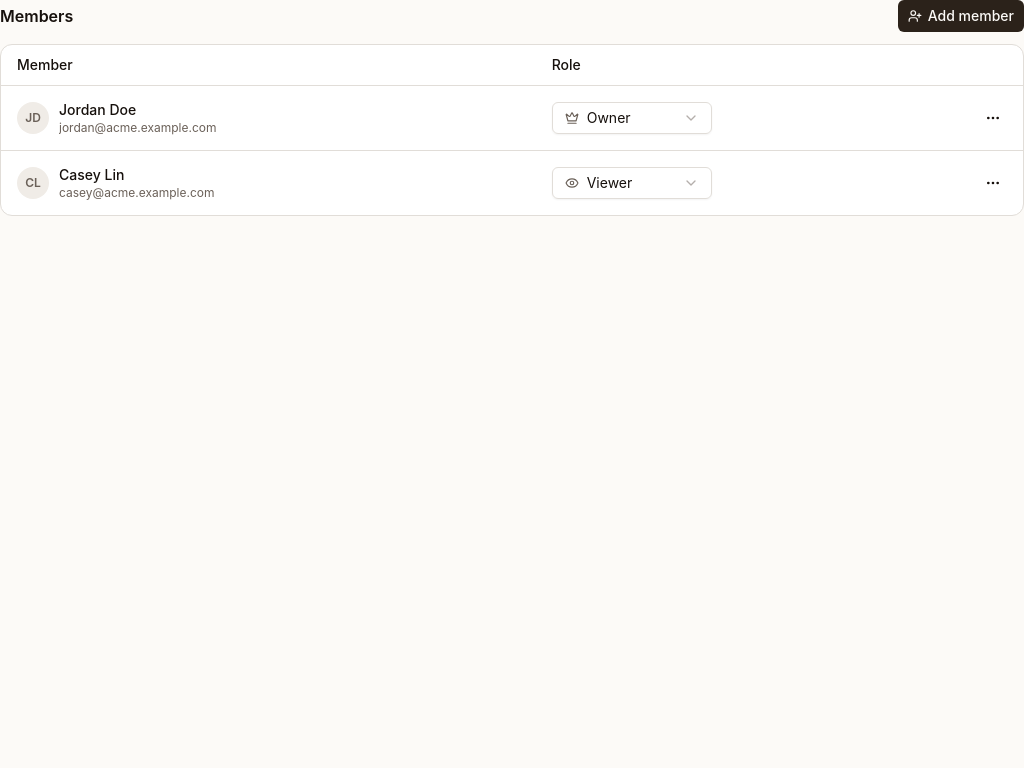
MembershipEditor › surfaces the last_owner typed error inline on a failed remove
Expected: the number of rows with test id "admin-group-member-row" is 2, x1=1 y1=85 x2=1023 y2=150; x1=1 y1=150 x2=1023 y2=214
Step 1. Click the button with test id "admin-group-member-actions" → click(993, 118), box x1=979 y1=104 x2=1007 y2=132
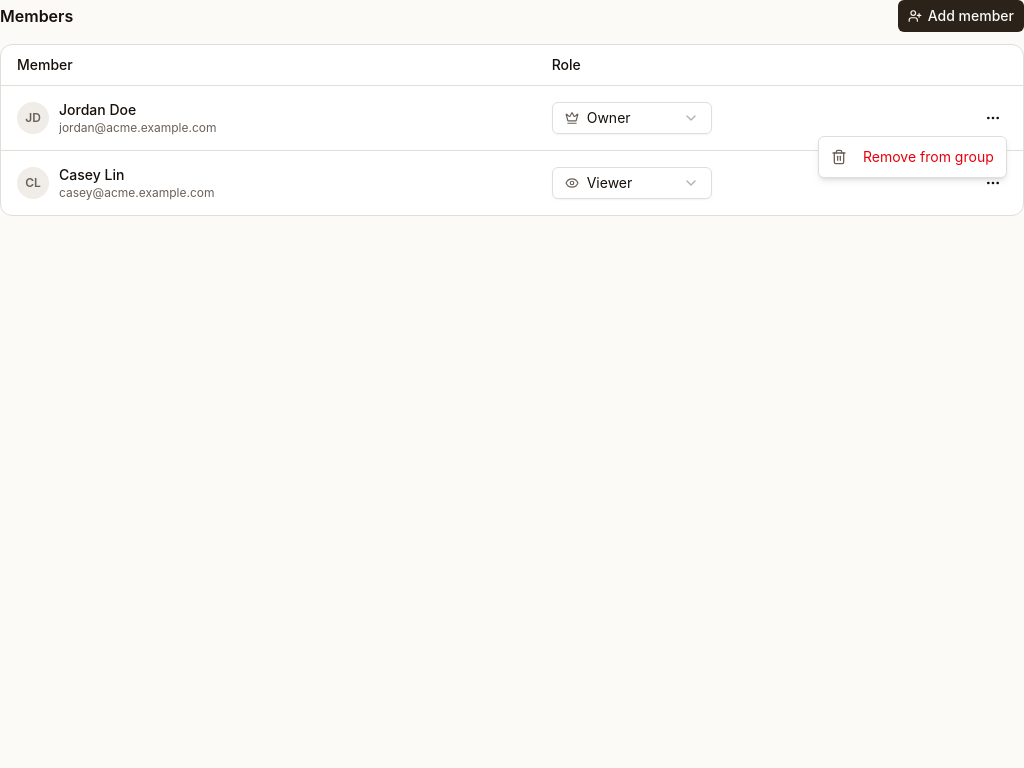
Step 2. Click the menu item with test id "admin-group-member-remove" → click(912, 156), box x1=831 y1=148 x2=994 y2=165
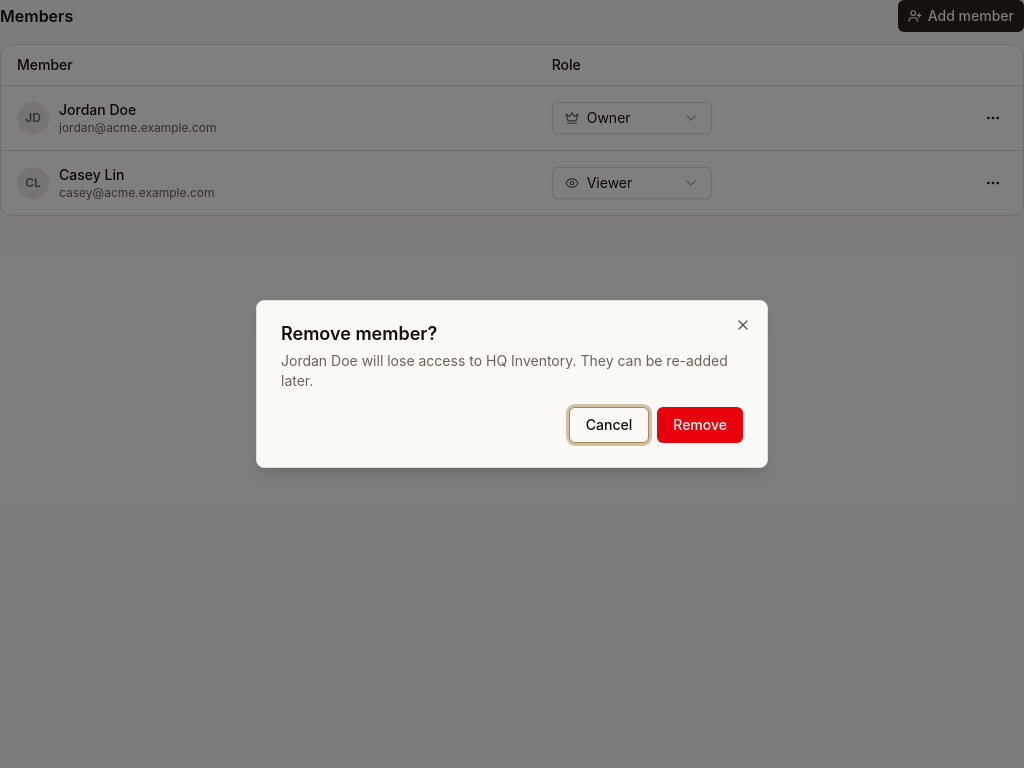
Step 3. Click the button with test id "confirm-accept" → click(700, 425), box x1=657 y1=407 x2=743 y2=443
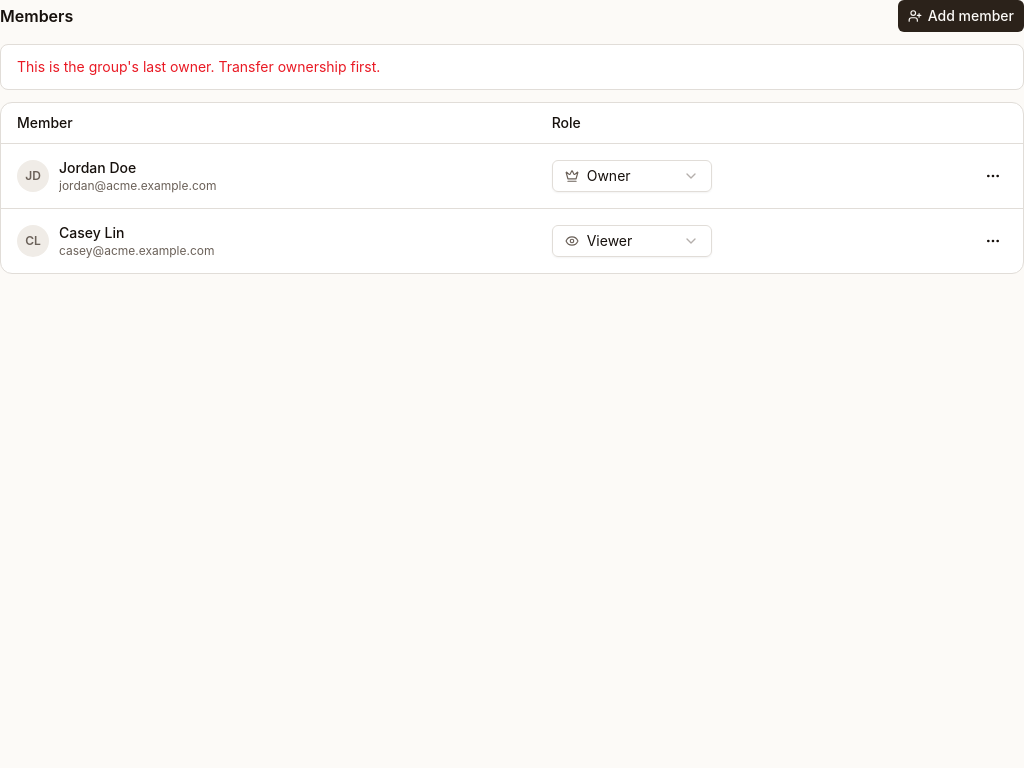
Now the message with test id "admin-group-members-error" shows "Transfer ownership first", box x1=17 y1=58 x2=380 y2=75
